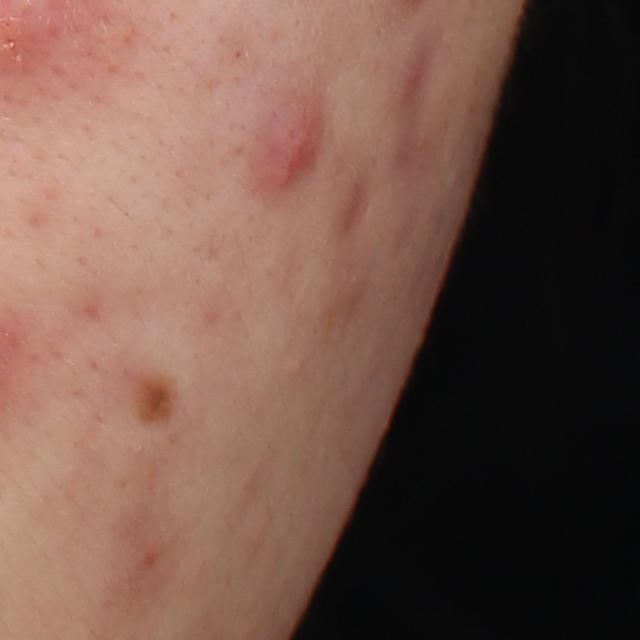atrophic_scar: (402, 45, 448, 158), (343, 174, 378, 242)
nevus: (131, 377, 178, 428)
papule: (246, 80, 320, 202)
